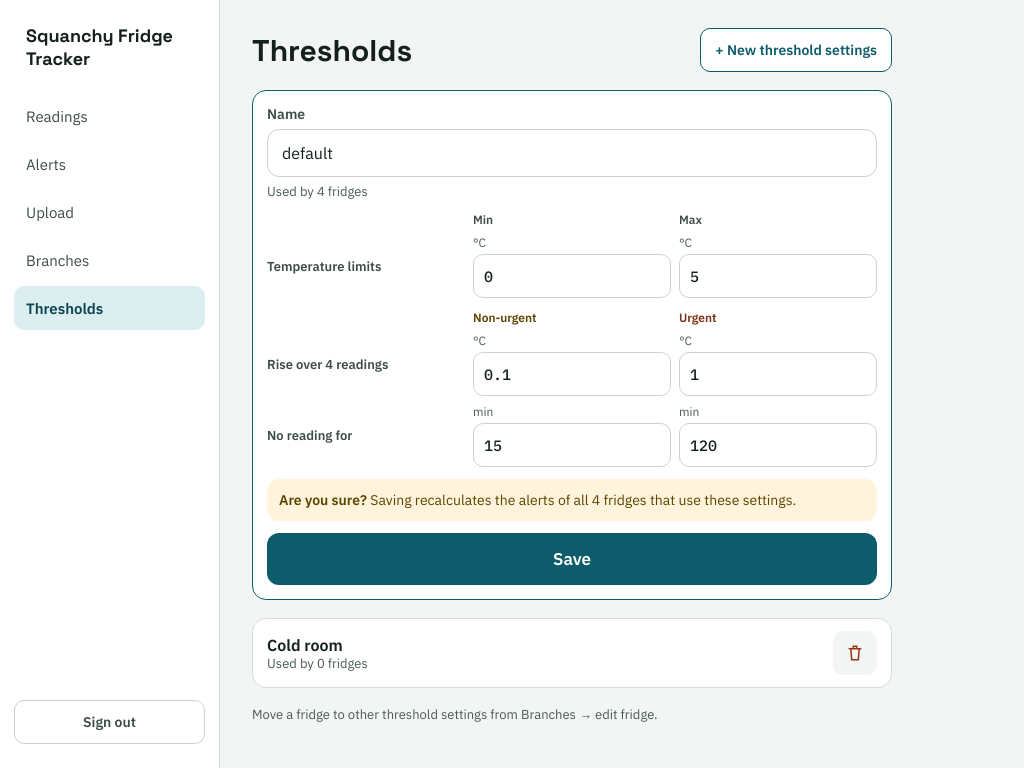
it: ThresholdsPage delete › shows the backend's message when a fridge started using the settings
Click the button named "Delete threshold settings Cold room" at coordinates (855, 653), box [833,631,877,675]
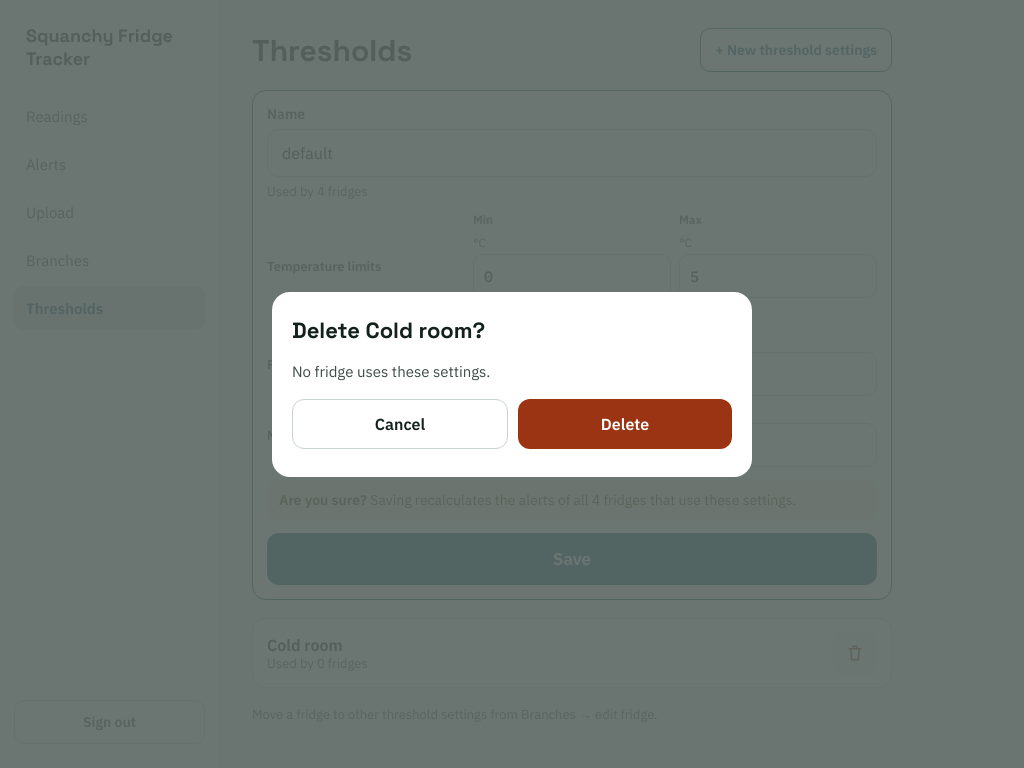
Click the button "Delete" at coordinates (625, 424), box [518,398,732,448]
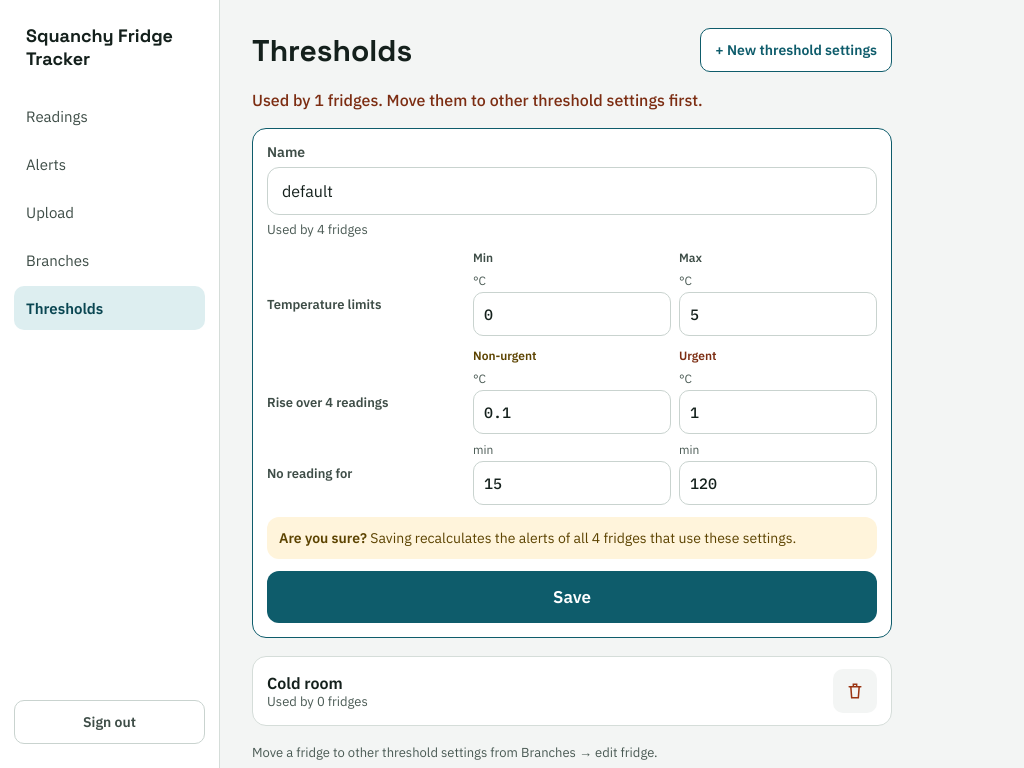
Expected: the button "Cold room Used by 0 fridges" is shown, [267,669,825,713]
Result: the message reads "Used by 1 fridges. Move them to other threshold settings first." at [252,90,703,110]
